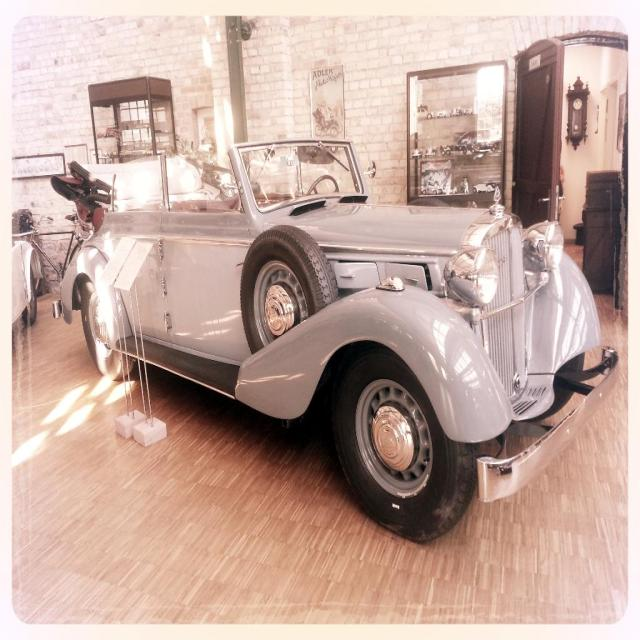car: (51, 136, 621, 544)
